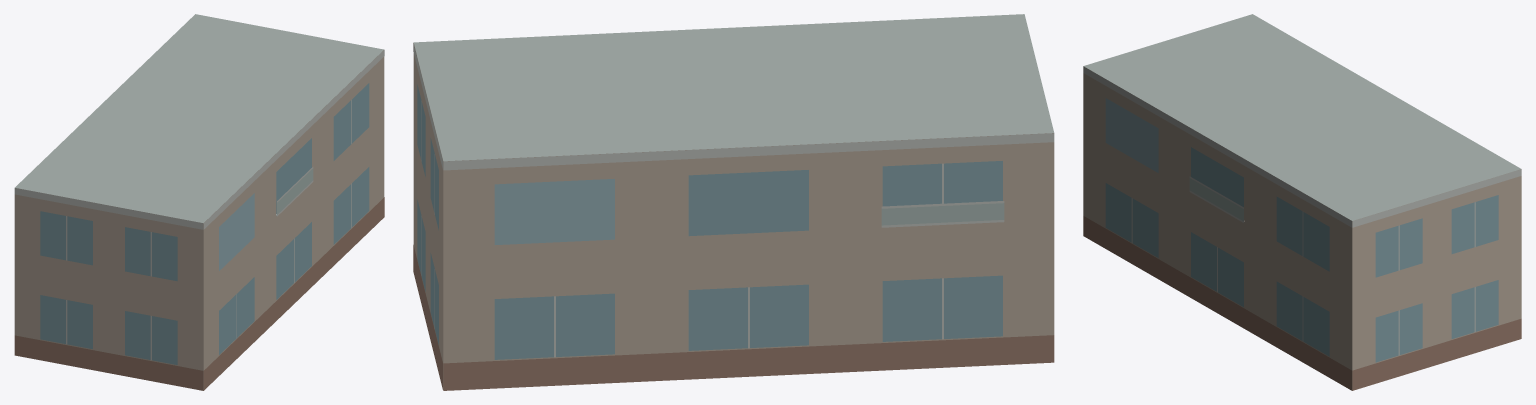
Rendered from survey-upis-33007531.glb.
3 views of the same model, side by side, from view 1: azimuth 30°, elevation 25°; view 2: azimuth 150°, elevation 25°; view 3: azimuth 270°, elevation 25° (orthographic). The views are drawn at different scales.
Visible parts, largest first — view 1: survey-upis-33007531.tmp; view 2: survey-upis-33007531.tmp; view 3: survey-upis-33007531.tmp.
Part boxes in pixels (x1,y1,x2,y2): survey-upis-33007531.tmp: (14,14,384,390); survey-upis-33007531.tmp: (413,14,1054,390); survey-upis-33007531.tmp: (1083,14,1521,390).
Bounding box in the file's own units: 15.96 × 6.1 × 14.28.
